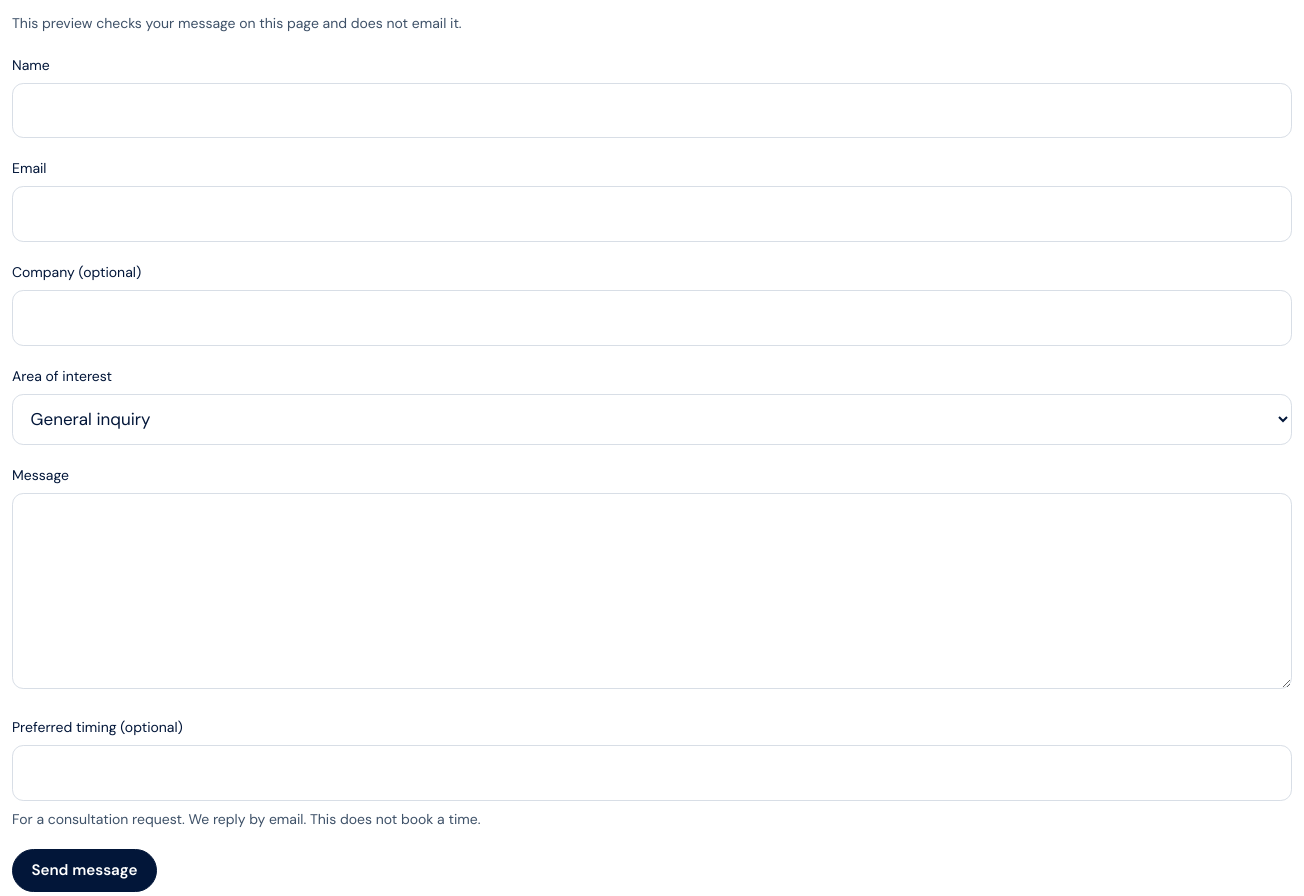
Test: ContactForm › shows field errors and does not claim the message was sent
Click the button "Send message". click: click(84, 870)
box: [12,849,157,892]
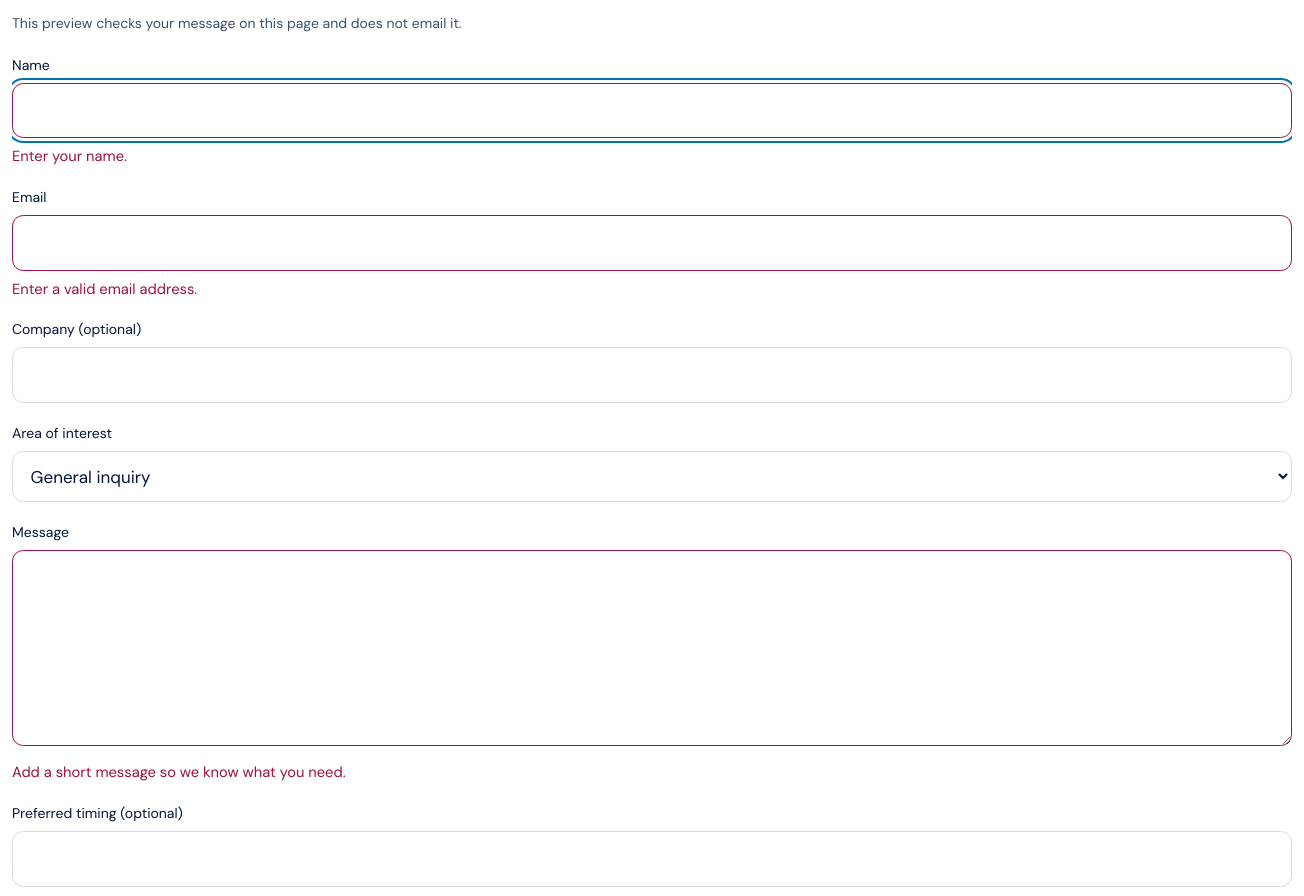
Now the text "Enter your name." is shown, box [12,146,127,166]
